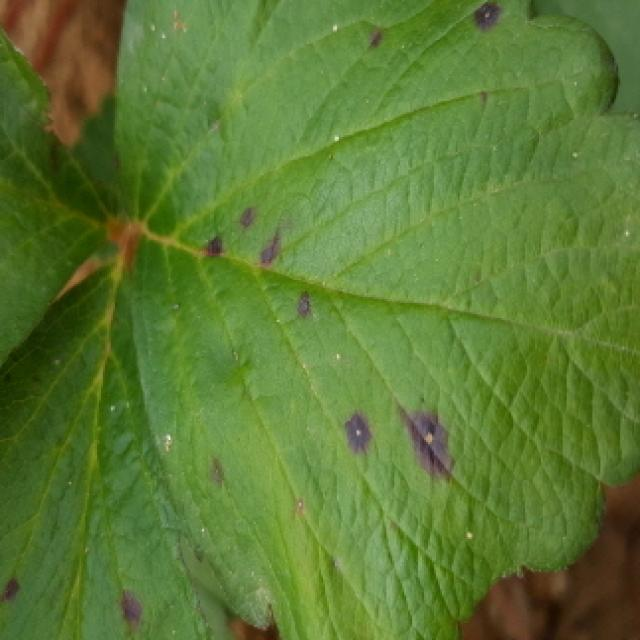Leaf Spot: (113, 0, 640, 640), (0, 258, 241, 640), (0, 20, 125, 368)
